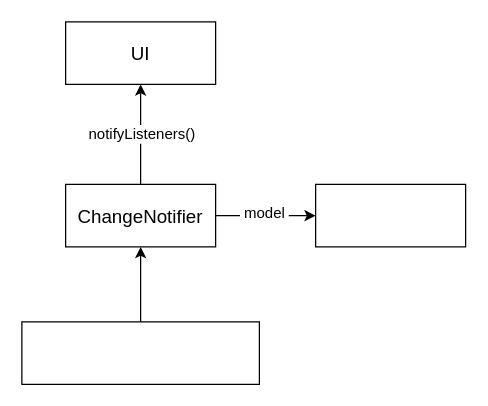
Some shapes in this 488 by 406 pixel diagram are drawn without their labels. The box of each missing label's shape, as (x1, y1, x2, y2) in pixels:
ChangeNotifierProvider: (21, 321, 259, 384)
Consumer: (314, 183, 466, 247)
